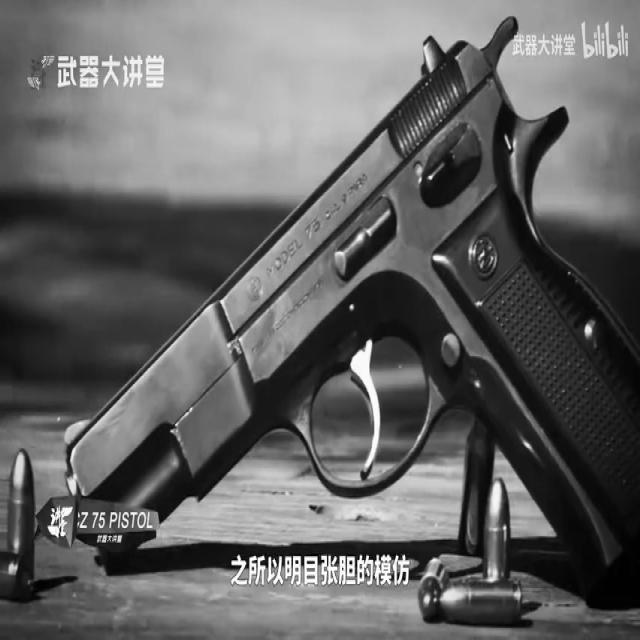Hand-Gun: (64, 23, 590, 584)
